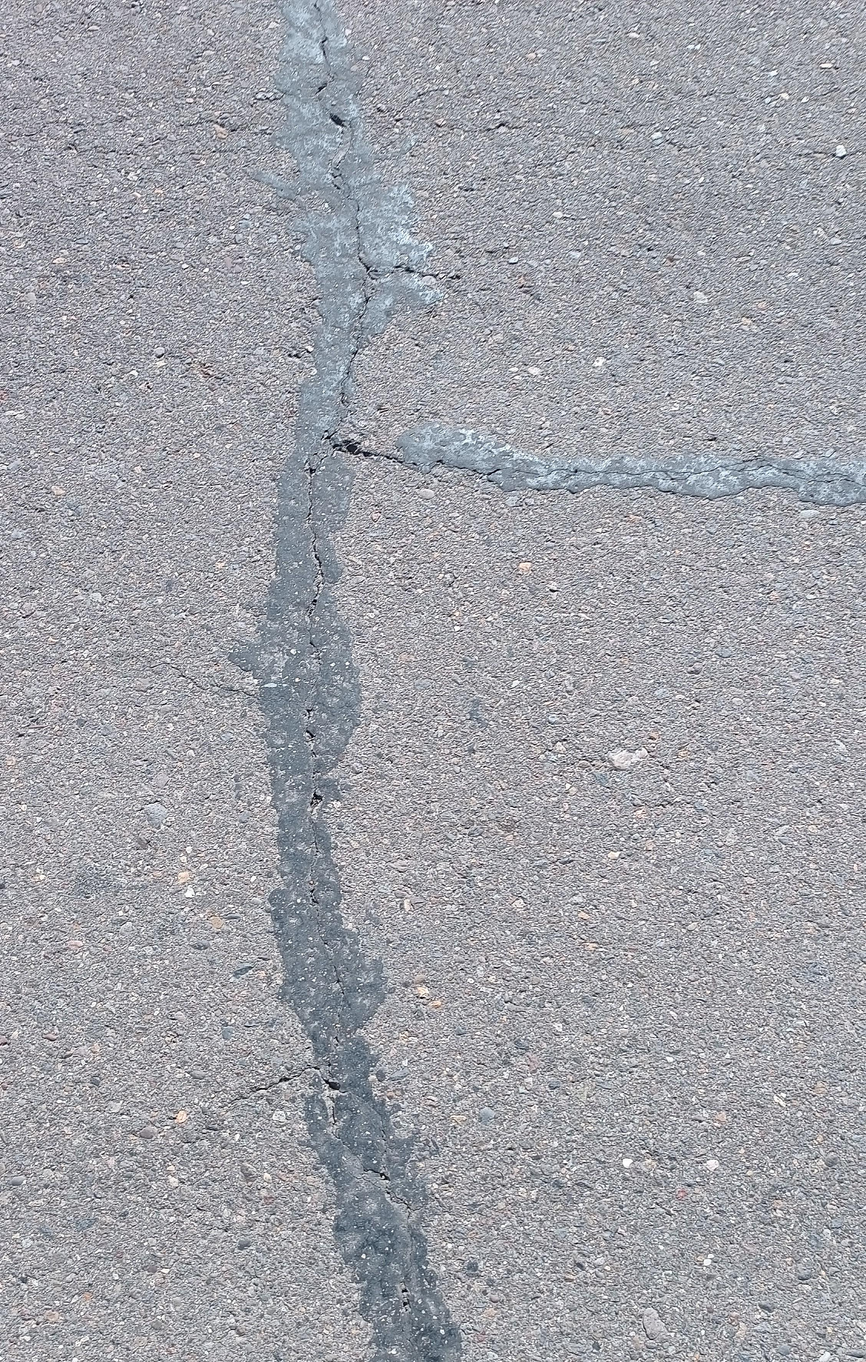GRIETA: (332, 439, 764, 478), (317, 1072, 391, 1186), (302, 638, 325, 907), (222, 1066, 321, 1109), (149, 662, 257, 697), (304, 465, 325, 622), (339, 297, 368, 408), (314, 37, 333, 97), (392, 265, 463, 280), (354, 224, 371, 274)
